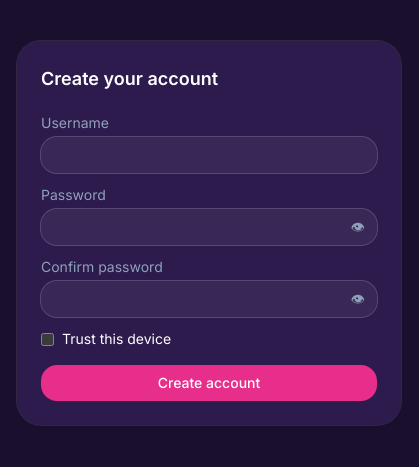
the auth front door (ADR 0076) › create-account blocks a confirm-password mismatch (no setup request)
Expected: the heading "Create your account" is shown, [41,68,218,89]
Type "alice" into the field labelled "Username" at (209, 155), box [41,137,377,173]
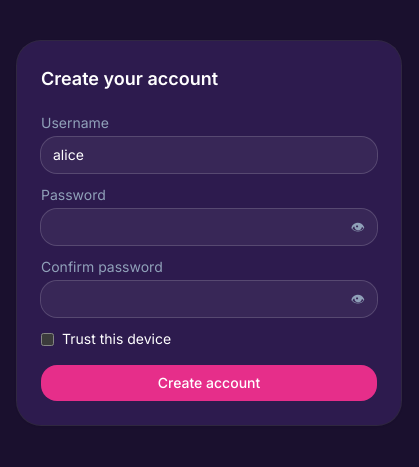
Type "pw123456" into the password field labelled "Password" at (209, 227), box [41,209,377,245]
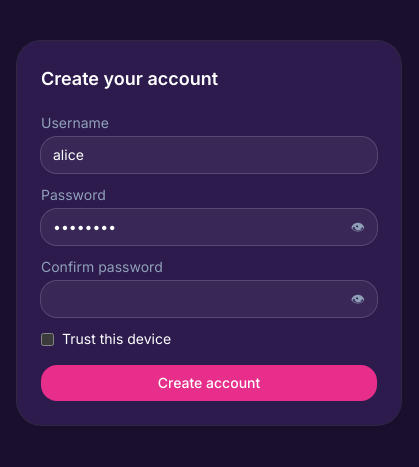
Type "nomatch" into the password field labelled "Confirm password" at (209, 299), box [41,281,377,317]
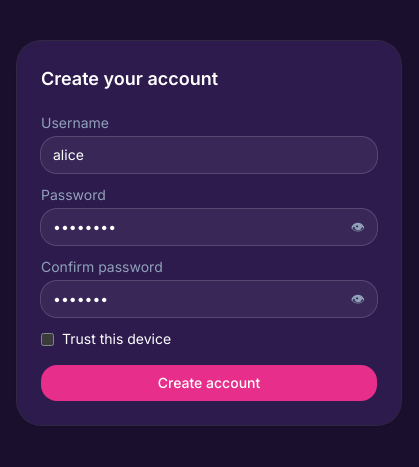
Click the button "Create account" at (209, 383), box [41,365,377,401]
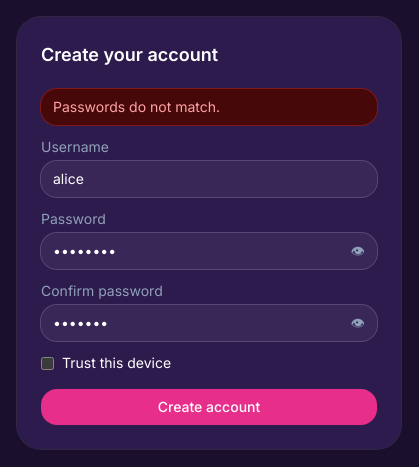
Expected: the text "Passwords do not match." is shown, [41,89,377,125]
